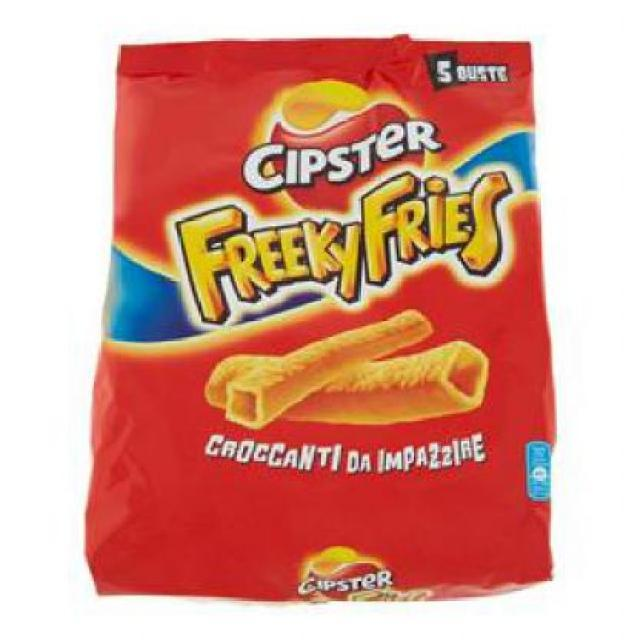Merendine: (80, 30, 578, 604)
